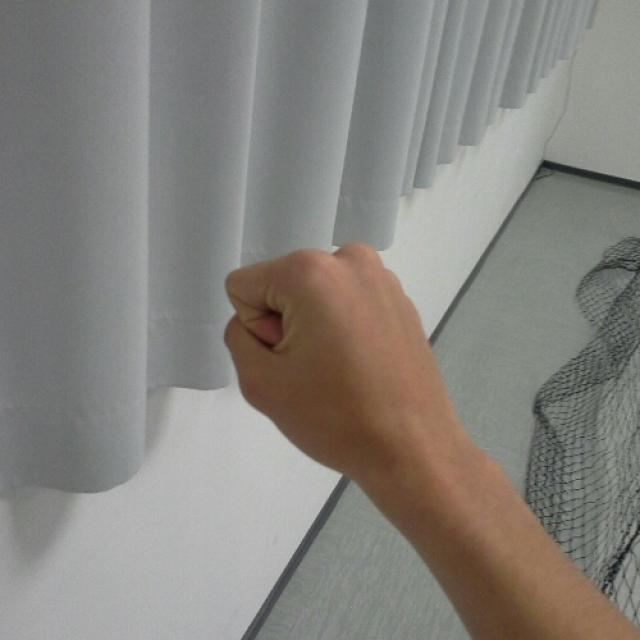rock: (224, 242, 456, 471)
